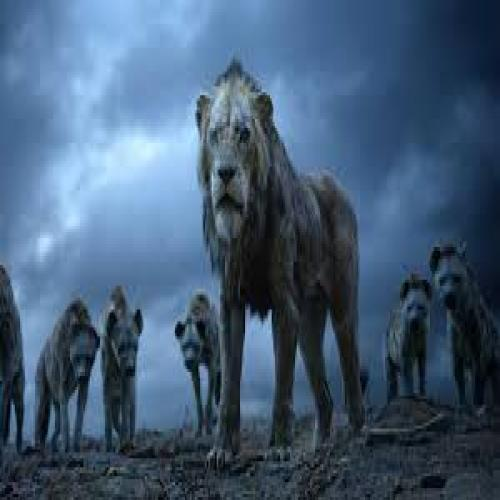lion-endangered: (195, 57, 366, 469)
